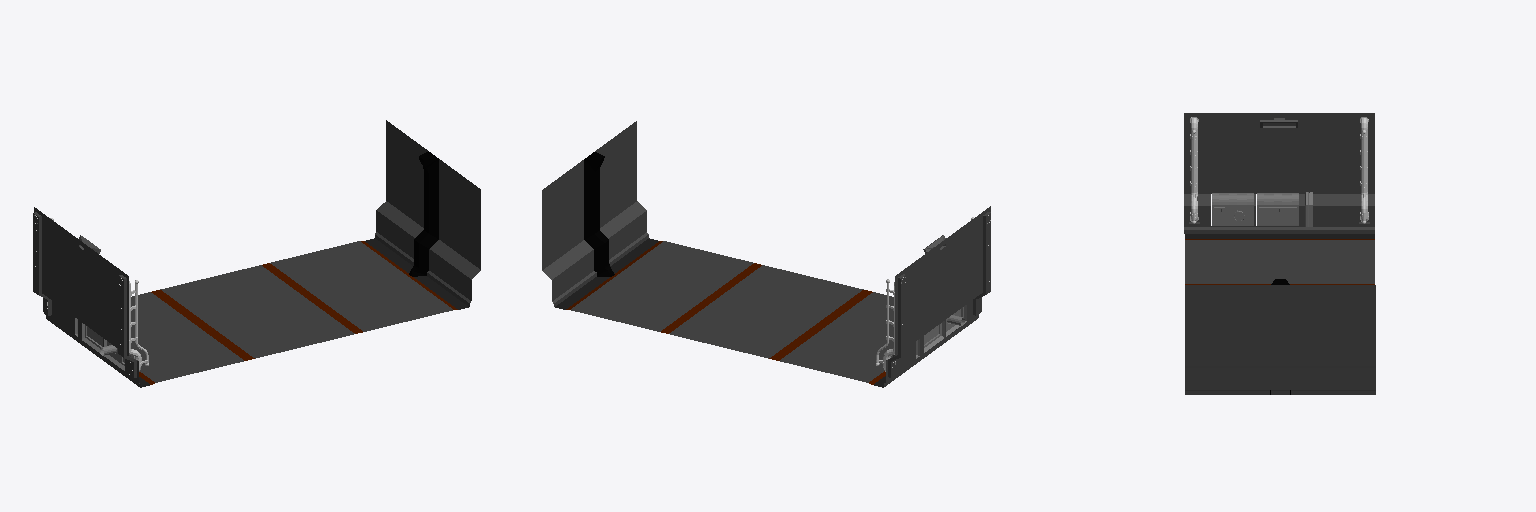
3 renders of one model, left to right at view 1: azimuth 30°, elevation 25°; view 2: azimuth 150°, elevation 25°; view 3: azimuth 270°, elevation 25°, orthographic.
Visible parts, largest first — view 1: Segment_1 Components Full_Templates Templates; view 2: Segment_1 Components Full_Templates Templates; view 3: Segment_1 Components Full_Templates Templates.
Part boxes in pixels (bbox=[...]): Segment_1 Components Full_Templates Templates: bbox=[33, 120, 480, 387]; Segment_1 Components Full_Templates Templates: bbox=[542, 121, 990, 387]; Segment_1 Components Full_Templates Templates: bbox=[1184, 113, 1375, 394].
Bounding box in the file's own units: 38.94 × 12 × 18.1.